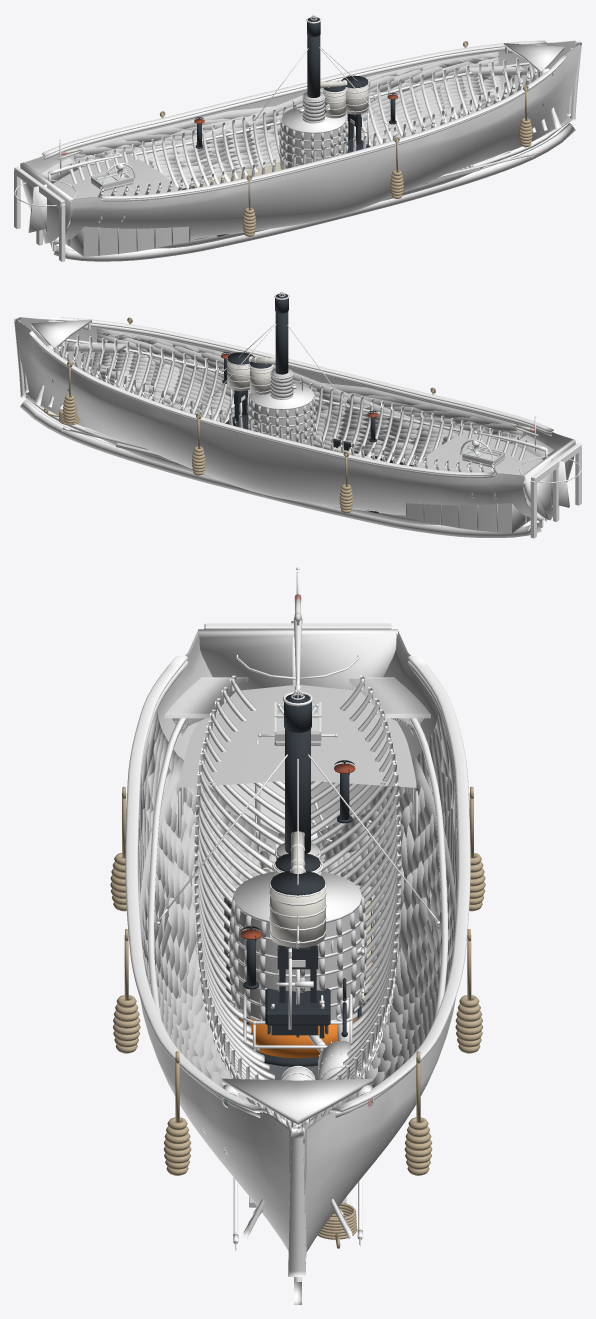
Rendered from steam_cutter_1888.glb.
3 views of the same model, one above another, from view 1: azimuth 30°, elevation 25°; view 2: azimuth 150°, elevation 25°; view 3: azimuth 270°, elevation 25° (orthographic). The views are drawn at different scales.
Parts seen in each view (by area): view 1: Planking_DoubleDiagonal, Frames, Gunwale_Inwale_Rub, Fore_Cabin, Keel_Stem_Sternpost, Boiler, Transom, Engine, Funnel, Fenders, Rudder, Breasthook (+6 smaller); view 2: Planking_DoubleDiagonal, Frames, Gunwale_Inwale_Rub, Fore_Cabin, Keel_Stem_Sternpost, Transom, Boiler, Engine, Funnel, Fenders, Breasthook, Keelson (+5 smaller); view 3: Planking_DoubleDiagonal, Frames, Gunwale_Inwale_Rub, Fore_Cabin, Boiler, Transom, Engine, Fenders, Funnel, Breasthook, Stern_Sheets, Keel_Stem_Sternpost (+2 smaller).
Boxes of the visible parts, left/top/right/bottom form: Planking_DoubleDiagonal: left=23, top=40, right=580, bottom=240; Frames: left=68, top=58, right=561, bottom=197; Gunwale_Inwale_Rub: left=42, top=40, right=579, bottom=201; Fore_Cabin: left=53, top=154, right=190, bottom=256; Keel_Stem_Sternpost: left=53, top=41, right=581, bottom=261; Boiler: left=279, top=106, right=348, bottom=169; Transom: left=14, top=162, right=73, bottom=261; Engine: left=321, top=75, right=370, bottom=152; Funnel: left=248, top=14, right=390, bottom=130; Fenders: left=159, top=41, right=532, bottom=236; Rudder: left=28, top=154, right=122, bottom=247; Breasthook: left=503, top=43, right=564, bottom=73; Planking_DoubleDiagonal: left=15, top=317, right=572, bottom=517; Frames: left=34, top=334, right=527, bottom=473; Gunwale_Inwale_Rub: left=16, top=317, right=553, bottom=477; Fore_Cabin: left=405, top=430, right=542, bottom=533; Keel_Stem_Sternpost: left=14, top=317, right=542, bottom=537; Transom: left=522, top=439, right=581, bottom=538; Boiler: left=248, top=382, right=315, bottom=445; Engine: left=225, top=352, right=273, bottom=429; Funnel: left=205, top=291, right=346, bottom=407; Fenders: left=63, top=317, right=435, bottom=513; Breasthook: left=31, top=319, right=91, bottom=349; Keelson: left=85, top=427, right=439, bottom=524; Planking_DoubleDiagonal: left=138, top=631, right=457, bottom=1251; Frames: left=194, top=675, right=401, bottom=1238; Gunwale_Inwale_Rub: left=125, top=656, right=470, bottom=1132; Fore_Cabin: left=178, top=685, right=417, bottom=836; Boiler: left=229, top=871, right=366, bottom=1066; Transom: left=198, top=623, right=397, bottom=690; Engine: left=265, top=853, right=333, bottom=1038; Fenders: left=110, top=786, right=485, bottom=1175; Funnel: left=156, top=687, right=439, bottom=948; Breasthook: left=222, top=1078, right=373, bottom=1124; Stern_Sheets: left=165, top=677, right=430, bottom=718; Keel_Stem_Sternpost: left=288, top=1128, right=306, bottom=1304.
Bounding box in the file's own units: 8.34 × 2.99 × 2.41.
